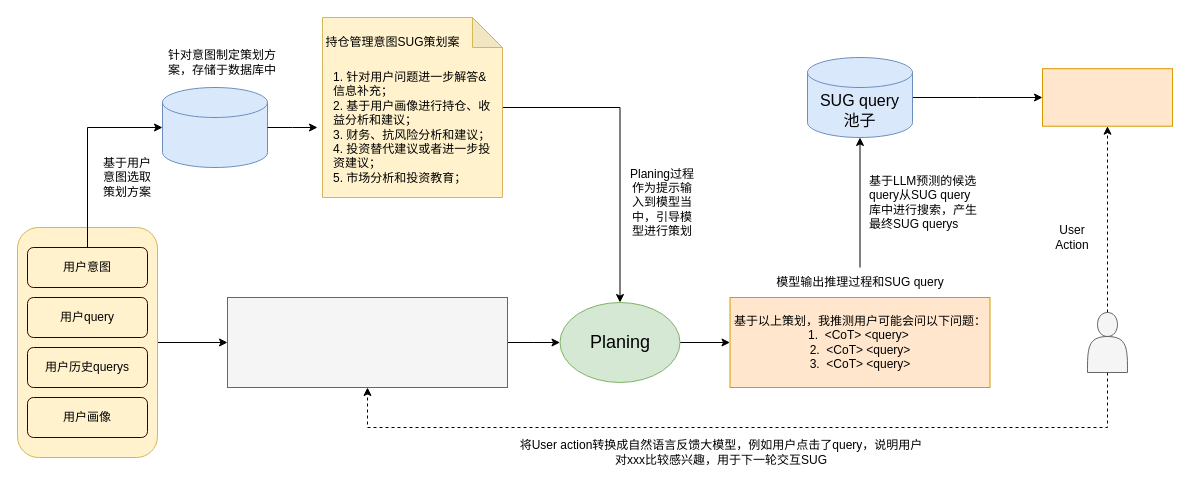
Some shapes in this 1190 by 485 pixel diagram are drawn without their labels. The box of each missing label's shape, as (x1, y1, x2, y2) in pixels:
Final SUG query1 Final SUG query2 Final SUG query3: (1042, 68, 1172, 126)
LLM-Agent: (226, 296, 508, 388)
策划方案: (162, 86, 268, 168)
